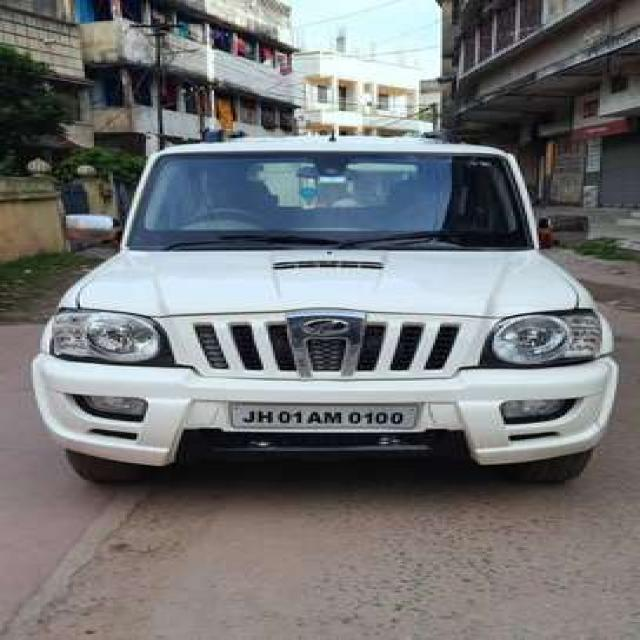Plate: (227, 401, 422, 425)
